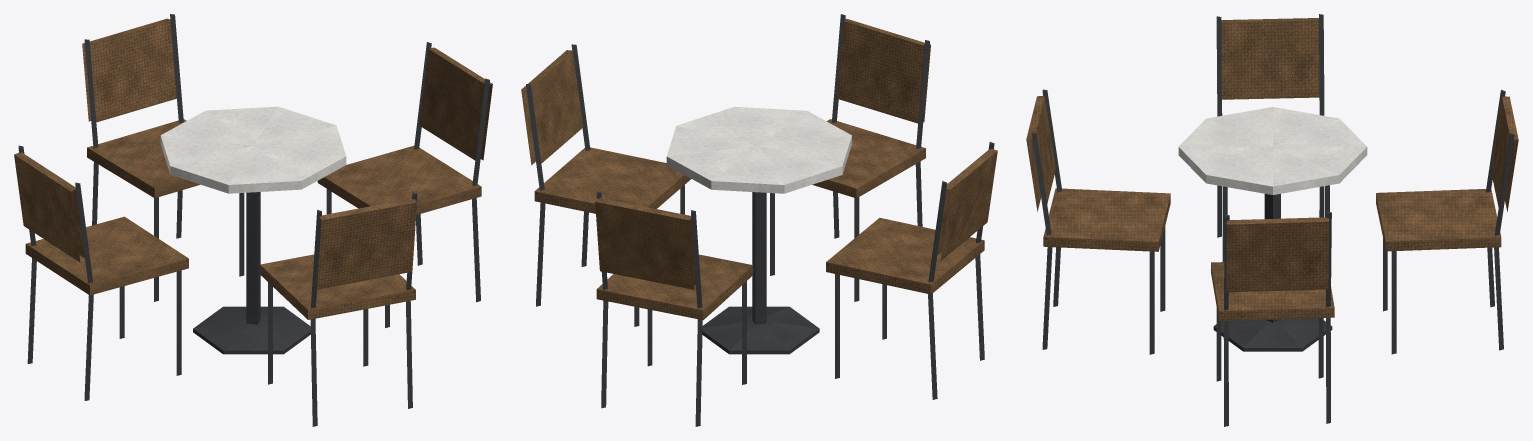
File: SM_Morin_TavoloSet_LOD2.fbx
The picture shows the model from 3 angles, left to right: view 1: azimuth 30°, elevation 25°; view 2: azimuth 150°, elevation 25°; view 3: azimuth 270°, elevation 25°; orthographic projection.
Visible parts, largest first — view 1: SM_Morin_TavoloSet_LOD2; view 2: SM_Morin_TavoloSet_LOD2; view 3: SM_Morin_TavoloSet_LOD2.
Part boxes in pixels (bbox=[...]): SM_Morin_TavoloSet_LOD2: bbox=[14, 14, 492, 426]; SM_Morin_TavoloSet_LOD2: bbox=[521, 14, 997, 426]; SM_Morin_TavoloSet_LOD2: bbox=[1026, 14, 1518, 426].
Bounding box in the file's own units: 182 × 183 × 88.22.
Materials: 1 (1 with a texture image).
